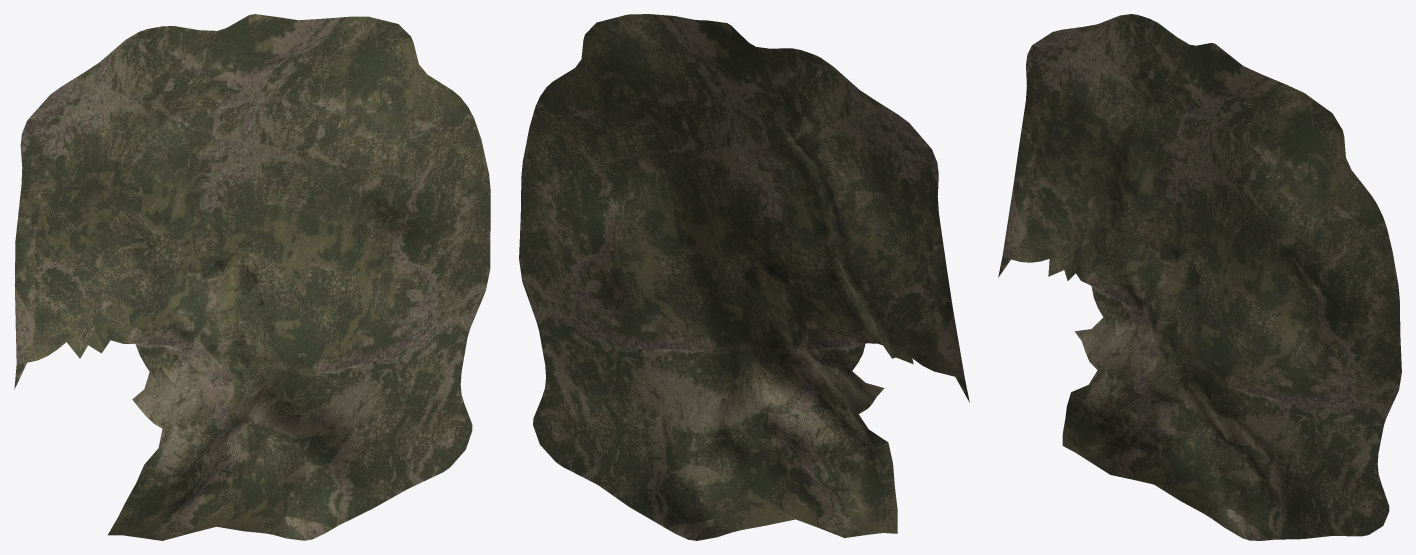
Rendered from teren_daleki.glb.
3 views of the same model, side by side, from view 1: azimuth 30°, elevation 25°; view 2: azimuth 150°, elevation 25°; view 3: azimuth 330°, elevation 25° (orthographic). The views are drawn at different scales.
Visible parts, largest first — view 1: Background_Tree_Atlas.020_Terrain_Far_0; view 2: Background_Tree_Atlas.020_Terrain_Far_0; view 3: Background_Tree_Atlas.020_Terrain_Far_0.
Boxes of the visible parts, x1,y1,x2,y2 form: Background_Tree_Atlas.020_Terrain_Far_0: (14,14,490,540); Background_Tree_Atlas.020_Terrain_Far_0: (519,14,969,540); Background_Tree_Atlas.020_Terrain_Far_0: (998,14,1401,540).
Size of the model in its own units: 498 by 548 by 73.11.
Materials: 1 (1 with a texture image).
